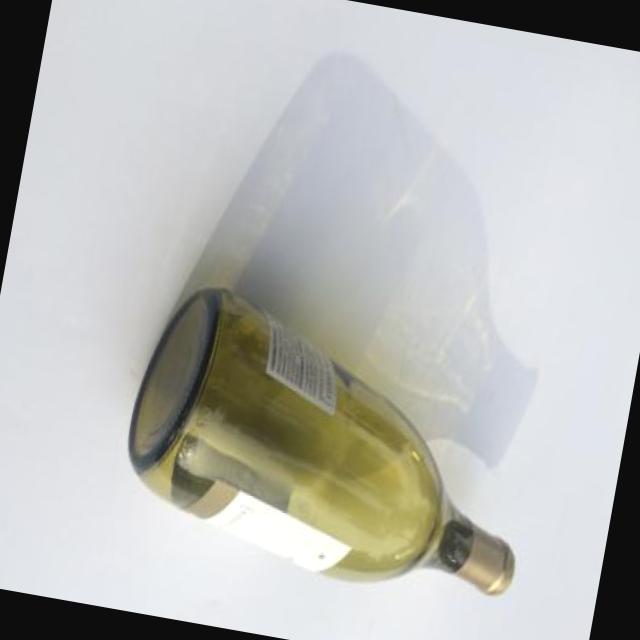chai_thuy_tinh: (127, 289, 514, 596)
